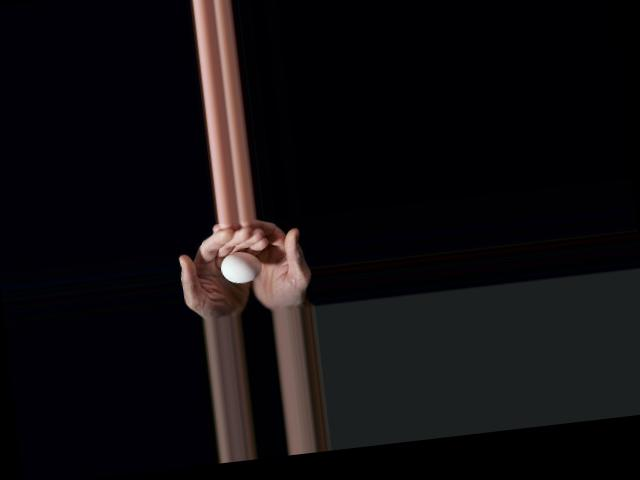egg: (218, 249, 262, 285)
